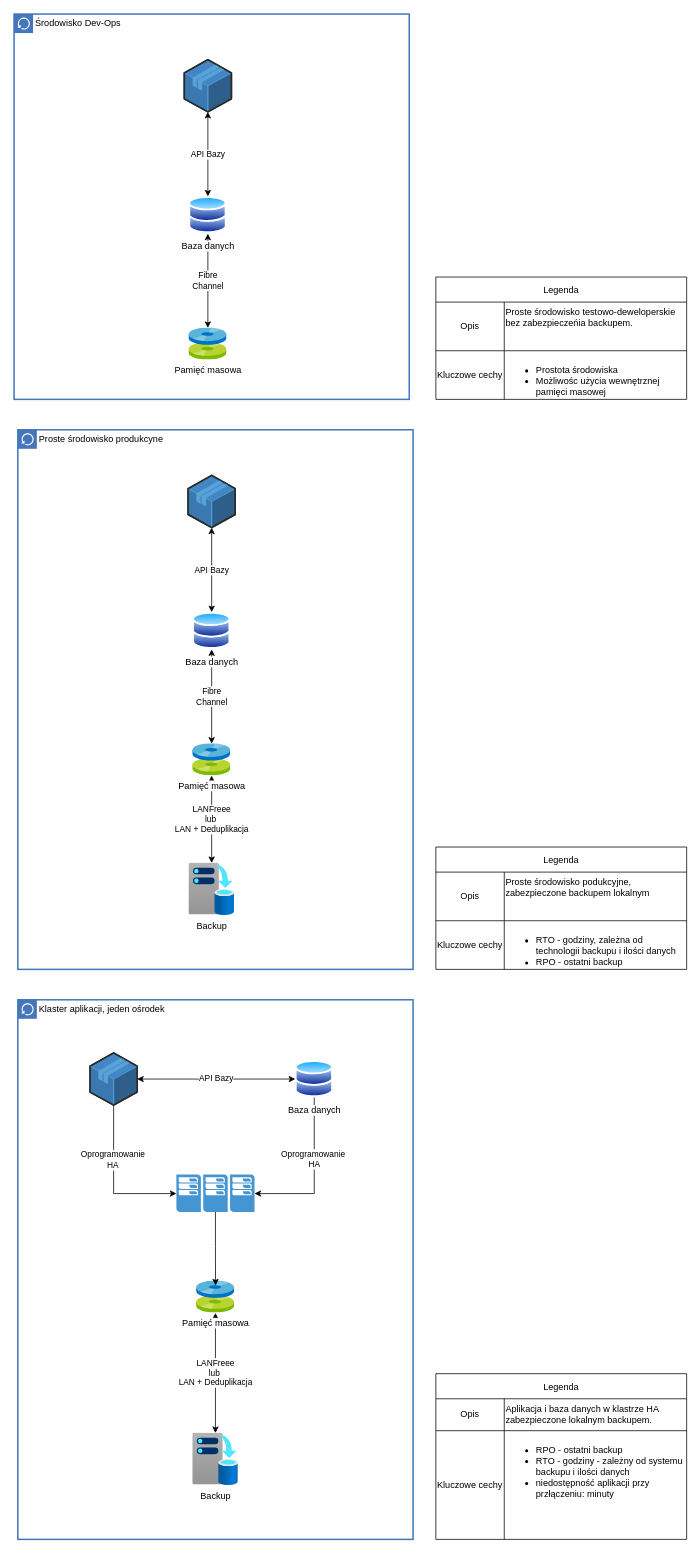
Image size: 700x1554. Some labels were removed from this diagram. The shapes that lost their labels are listed below. From the top down, each one's centre as x and y in pixels, then its label:
At (113,1078): "Aplikacja".
At (215,1193): "Klaster HA".
